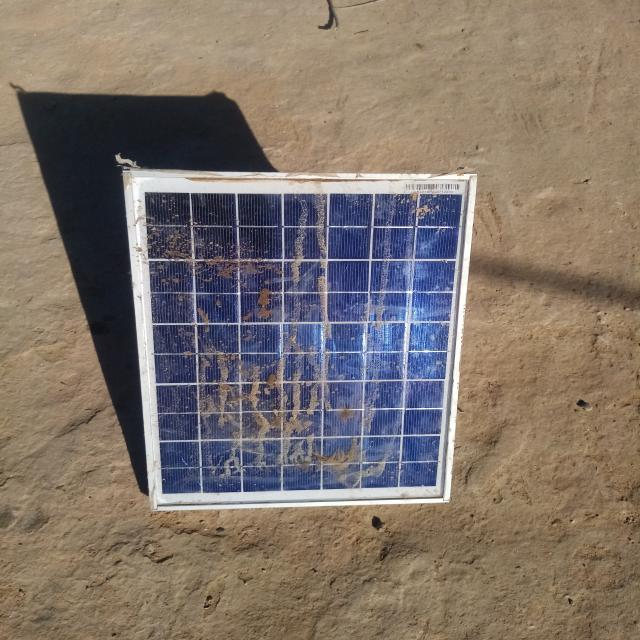faulty: (125, 175, 480, 509)
